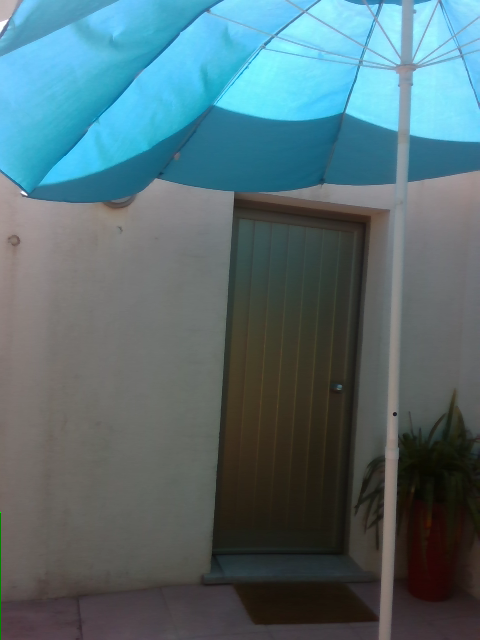closed: (209, 192, 388, 574)
